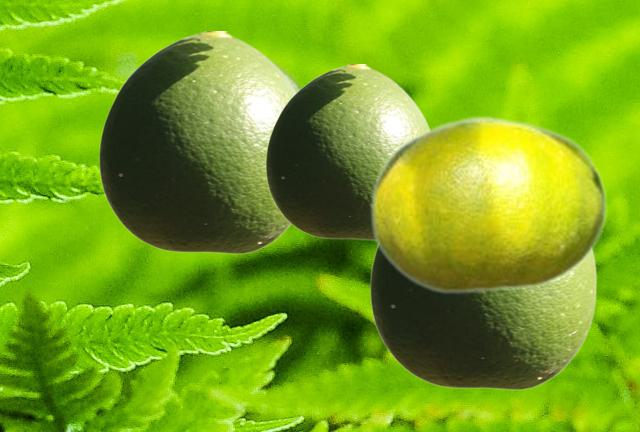dalandan: (98, 31, 296, 253), (369, 115, 606, 294), (369, 247, 596, 389), (265, 64, 429, 239)
